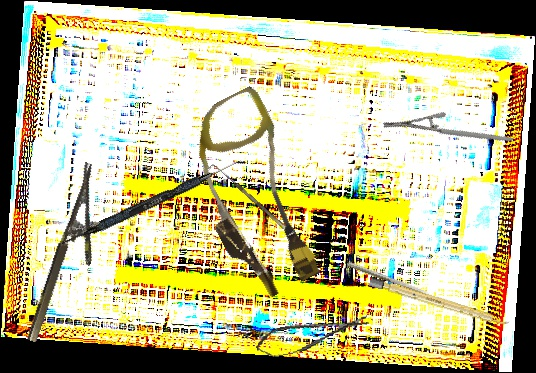Cannula: (164, 84, 344, 306)
Hook Surgical: (208, 161, 291, 238)
Micro Scissor: (253, 309, 372, 361)
Needle Holder: (24, 161, 122, 352), (381, 83, 514, 182)
Pusher: (344, 261, 494, 322)
Scalpel Handle: (368, 276, 511, 329)
Spatula Surgical: (60, 152, 246, 252)
